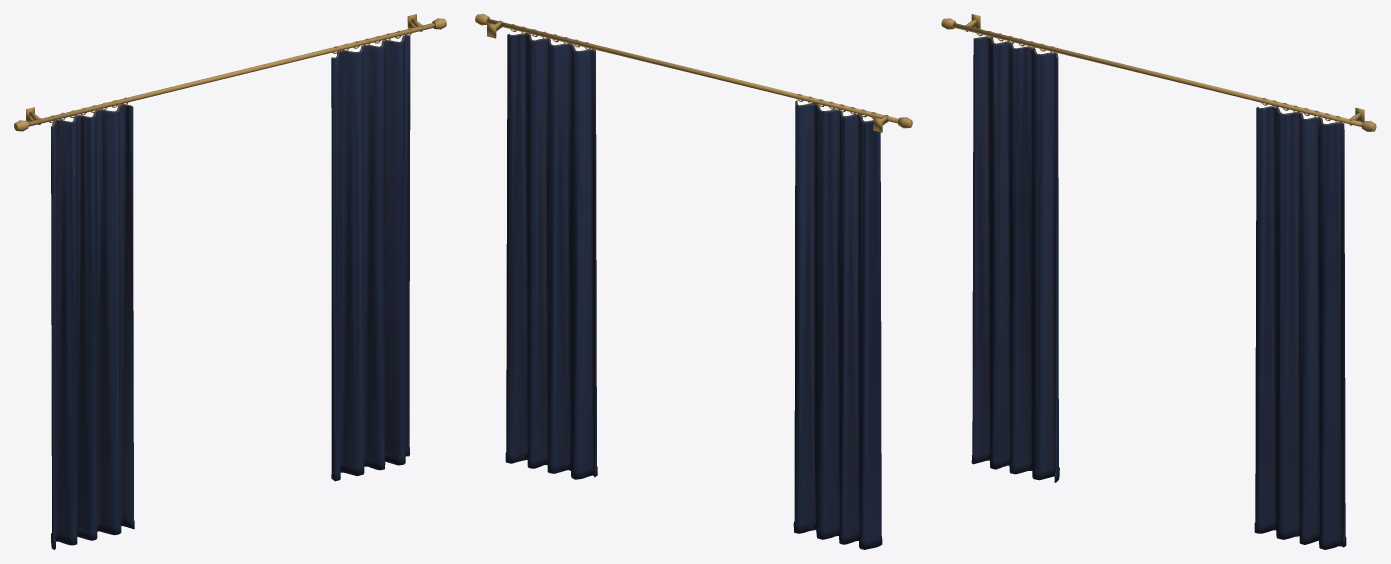
The model's file is drapes_navy-low.glb.
The picture shows the model from 3 angles, left to right: view 1: azimuth 30°, elevation 25°; view 2: azimuth 150°, elevation 25°; view 3: azimuth 330°, elevation 25°; orthographic projection.
Parts seen in each view (by area): view 1: drapes_navy-low; view 2: drapes_navy-low; view 3: drapes_navy-low.
Part boxes in pixels (x1,y1,x2,y2): drapes_navy-low: (14,14,446,549); drapes_navy-low: (475,14,912,549); drapes_navy-low: (941,14,1376,549).
Bounding box in the file's own units: 2.4 × 2.31 × 0.1398.
Materials: 1 (1 with a texture image).
